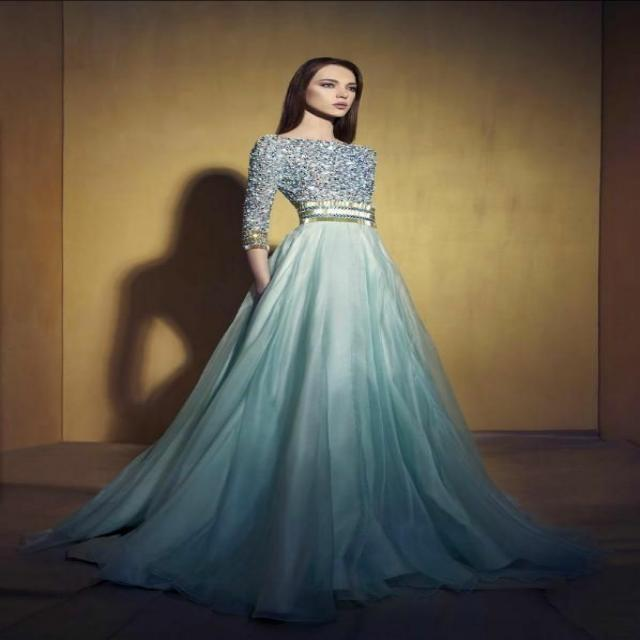female-dress: (120, 138, 549, 588), (145, 230, 564, 592), (236, 127, 383, 221)
